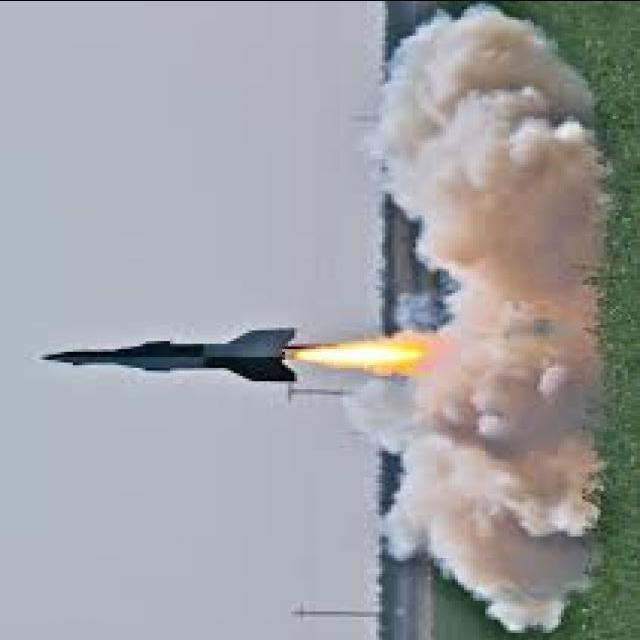missile: (44, 327, 308, 388)
